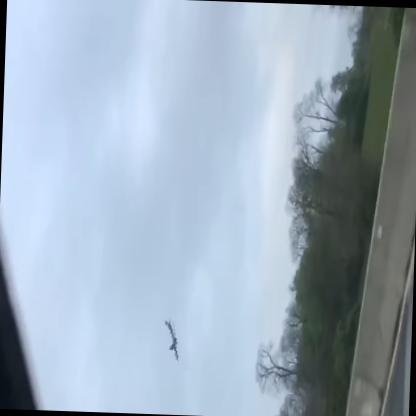plane: (158, 313, 192, 374)
